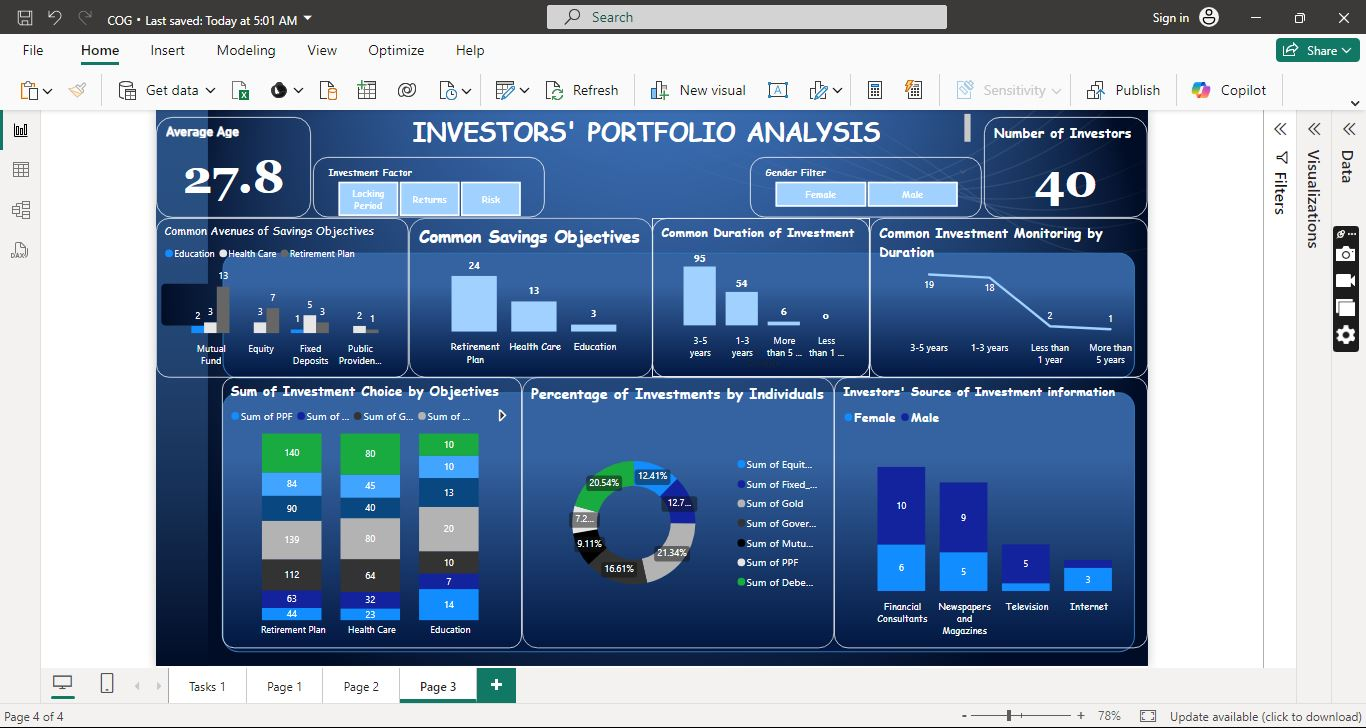

The page's visual inventory and layout, read from the dashboard file:
{"tool":"powerbi","page":{"name":"Page 3","canvas":[1280,720],"ordinal":3},"visuals":[{"type":"columnChart","title":"Common Savings Objectives","fields":{"Category":["Data_set 2.Savings_objectives"],"Y":["Data_set 2.count_of_Sav_obj"]},"box":[326,138.9,314.6,205.5],"z":0},{"type":"columnChart","title":"Common Duration of Investment","fields":{"Category":["Data_set 2.Duration"],"Y":["Sum(Data_set 2.Duration_year)"]},"box":[640.6,138.9,280.6,205.5],"z":1},{"type":"lineChart","title":"Common Investment Monitoring by Duration","fields":{"Y":["CountNonNull(Data_set 2.Invest_Monitor)"],"Category":["Data_set 2.Duration"]},"box":[921.3,138.9,358.6,205.5],"z":2},{"type":"donutChart","title":"Percentage of Investments by Individuals","fields":{"Y":["Sum(Data_set 2.Equity_Market)","Sum(Data_set 2.Fixed_Deposits)","Sum(Data_set 2.Gold)","Sum(Data_set 2.Government_Bonds)","Sum(Data_set 2.Mutual_Funds)","Sum(Data_set 2.PPF)","Sum(Data_set 2.Debentures)"]},"box":[472.3,365.2,402.6,334.2],"z":3},{"type":"card","title":"Average Age","fields":{"Values":["Avg(Data_set 2.age)"]},"box":[0,9,200,130.3],"z":6},{"type":"clusteredColumnChart","title":"Common Avenues of Savings Objectives","fields":{"Category":["Data_set 2.Avenue"],"Y":["Data_set 2.count_of_Sav_obj"],"Series":["Data_set 2.Savings_objectives"]},"box":[0,138.9,326,205.5],"z":7},{"type":"hundredPercentStackedColumnChart","title":"Sum of Investment Choice by Objectives","fields":{"Y":["Sum(Data_set 2.PPF)","Sum(Data_set 2.Mutual_Funds)","Sum(Data_set 2.Government_Bonds)","Sum(Data_set 2.Gold)","Sum(Data_set 2.Fixed_Deposits)","Sum(Data_set 2.Equity_Market)","Sum(Data_set 2.Debentures)"],"Category":["Data_set 2.Savings_objectives"]},"box":[86.5,365.2,387.1,334.2],"z":8},{"type":"columnChart","title":"Investors'' Source of Investment information","fields":{"Category":["Data_set 2.Source"],"Y":["CountNonNull(Data_set 2.gender)"],"Series":["Data_set 2.gender"]},"box":[874.8,365.2,387.1,334.2],"z":9},{"type":"card","title":"Number of Investors","fields":{"Values":["CountNonNull(Data_set 2.gender)"]},"box":[1068.7,8.5,211.2,130.4],"z":10},{"type":"slicer","fields":{"Values":["Data_set 2.gender"]},"box":[766.8,60.9,299.1,78],"z":11},{"type":"slicer","fields":{"Values":["Data_set 2.Factor"]},"box":[202.7,60.9,299.1,78],"z":12},{"type":"textbox","box":[218.3,0,837.6,49.6],"z":13}]}

Visuals, with their boxes on the page's 1280x720 design canvas (x1, y1, x2, y2). These are canvas units, not pixel positions in the 1366x728 screenshot, which may show the page scaled, cropped or inside an application window:
"Common Savings Objectives" columnChart: x1=326, y1=139, x2=641, y2=344
"Common Duration of Investment" columnChart: x1=641, y1=139, x2=921, y2=344
"Common Investment Monitoring by Duration" lineChart: x1=921, y1=139, x2=1280, y2=344
"Percentage of Investments by Individuals" donutChart: x1=472, y1=365, x2=875, y2=699
"Average Age" card: x1=0, y1=9, x2=200, y2=139
"Common Avenues of Savings Objectives" clusteredColumnChart: x1=0, y1=139, x2=326, y2=344
"Sum of Investment Choice by Objectives" hundredPercentStackedColumnChart: x1=86, y1=365, x2=474, y2=699
"Investors'' Source of Investment information" columnChart: x1=875, y1=365, x2=1262, y2=699
"Number of Investors" card: x1=1069, y1=8, x2=1280, y2=139
slicer - Data_set 2.gender: x1=767, y1=61, x2=1066, y2=139
slicer - Data_set 2.Factor: x1=203, y1=61, x2=502, y2=139
textbox: x1=218, y1=0, x2=1056, y2=50
